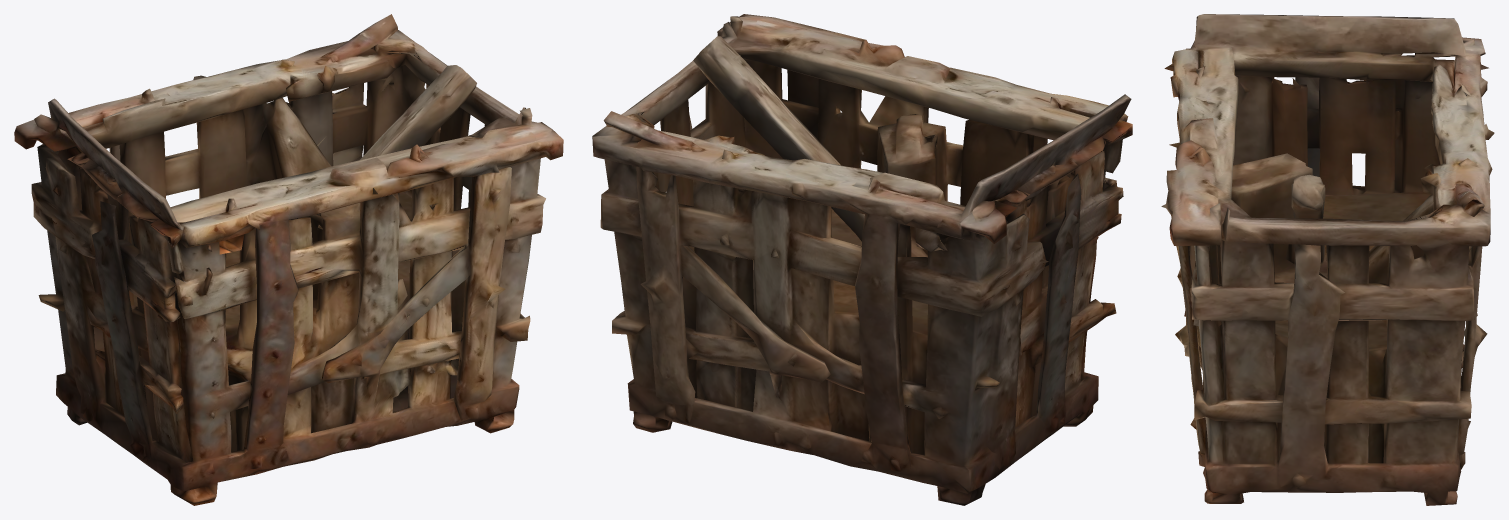
Rendered from mulch_bin.glb.
3 views of the same model, side by side, from view 1: azimuth 30°, elevation 25°; view 2: azimuth 150°, elevation 25°; view 3: azimuth 270°, elevation 25° (orthographic). The views are drawn at different scales.
Parts seen in each view (by area): view 1: mulch_bin / mesh; view 2: mulch_bin / mesh; view 3: mulch_bin / mesh.
Part boxes in pixels (x1,y1,x2,y2): mulch_bin / mesh: (14, 14, 563, 505); mulch_bin / mesh: (592, 14, 1132, 505); mulch_bin / mesh: (1161, 14, 1494, 505).
Bounding box in the file's own units: 1 × 0.7824 × 0.7211.
Materials: 1 (1 with a texture image).
